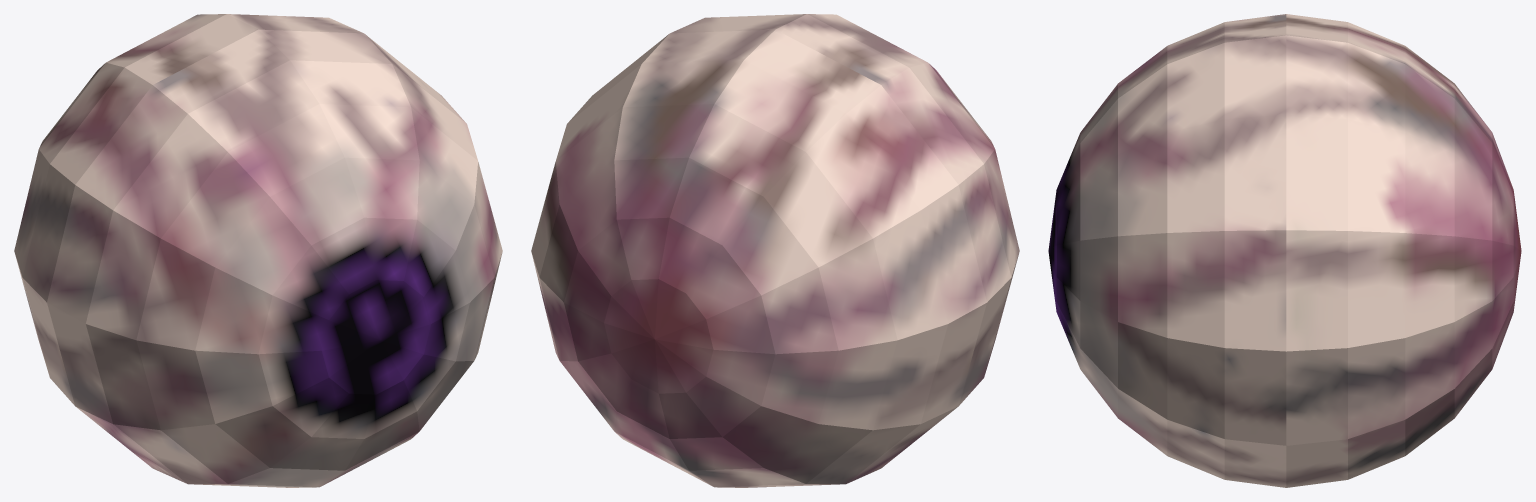
The model's file is eyeball-portfolio.glb.
The picture shows the model from 3 angles, left to right: view 1: azimuth 30°, elevation 25°; view 2: azimuth 150°, elevation 25°; view 3: azimuth 270°, elevation 25°; orthographic projection. The views are drawn at different scales.
Visible parts, largest first — view 1: nolids; view 2: nolids; view 3: nolids.
Boxes of the visible parts, box(x1,y1,x2,y2) form: nolids: box(14, 14, 502, 487); nolids: box(531, 14, 1019, 487); nolids: box(1048, 14, 1521, 487).
Size of the model in its own units: 2 by 2 by 1.99.
Materials: 1 (1 with a texture image).
